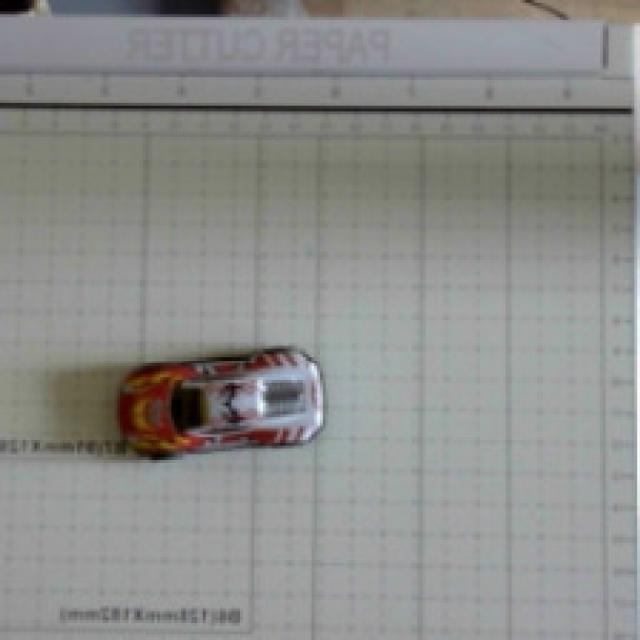Red Car: (93, 282, 368, 504)
